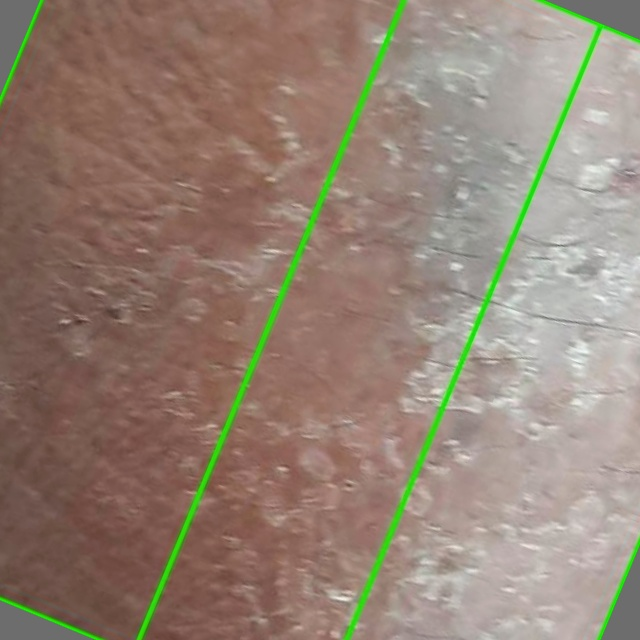Eczema: (0, 0, 601, 639), (139, 0, 639, 639)
